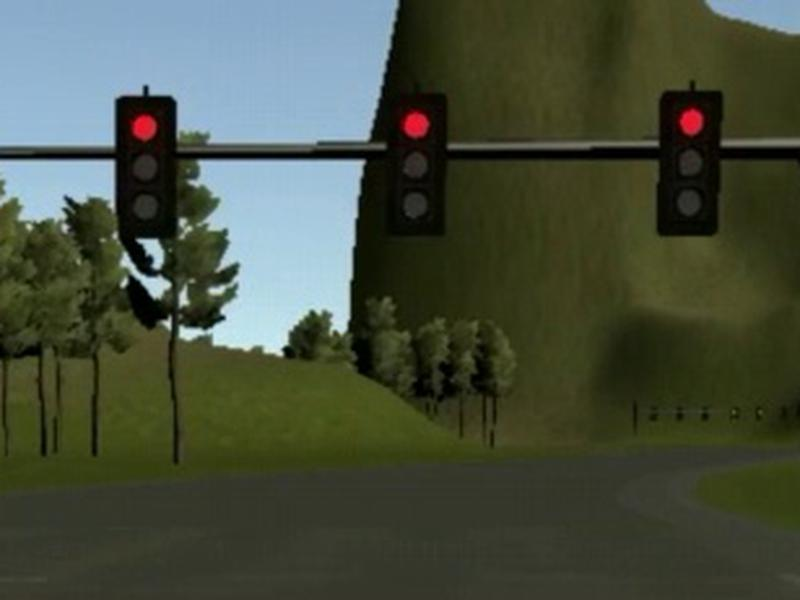Red: (115, 97, 178, 239), (661, 92, 720, 236), (391, 94, 447, 237)
